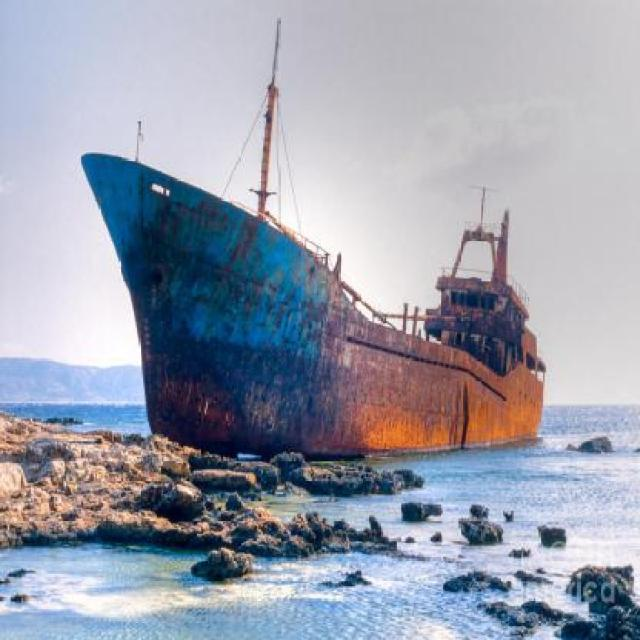corrosion: (80, 152, 552, 456)
